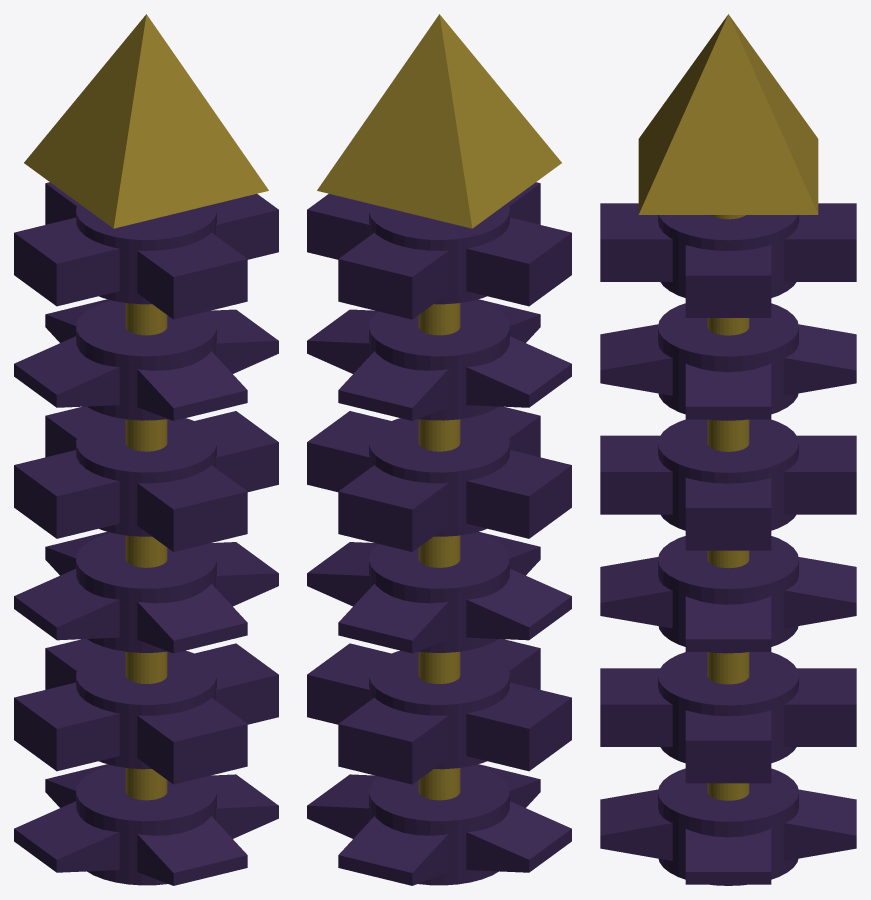
File: tower_4.fbx
The picture shows the model from 3 angles, left to right: view 1: azimuth 30°, elevation 25°; view 2: azimuth 150°, elevation 25°; view 3: azimuth 270°, elevation 25°; orthographic projection.
Visible parts, largest first — view 1: tower_4; view 2: tower_4; view 3: tower_4.
Boxes of the visible parts, left/top/right/bottom form: tower_4: left=14, top=14, right=278, bottom=885; tower_4: left=307, top=14, right=571, bottom=885; tower_4: left=600, top=14, right=856, bottom=885.
Size of the model in its own units: 600 by 2172 by 600.
